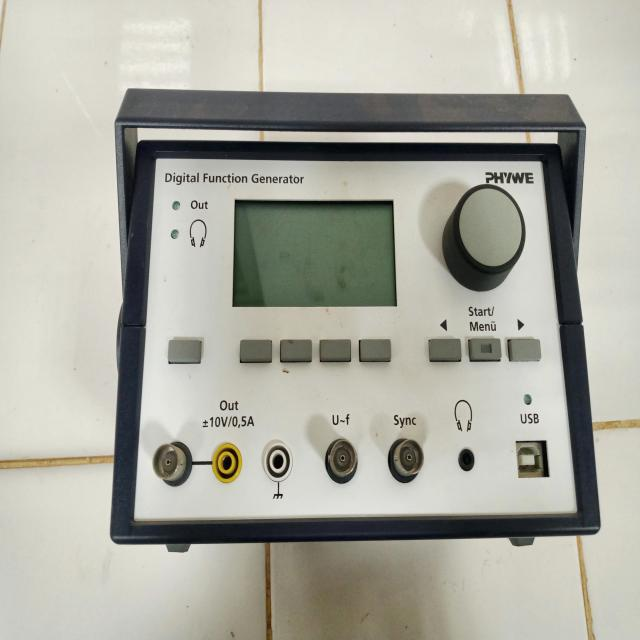Digital Function Generator: (97, 82, 611, 576)
